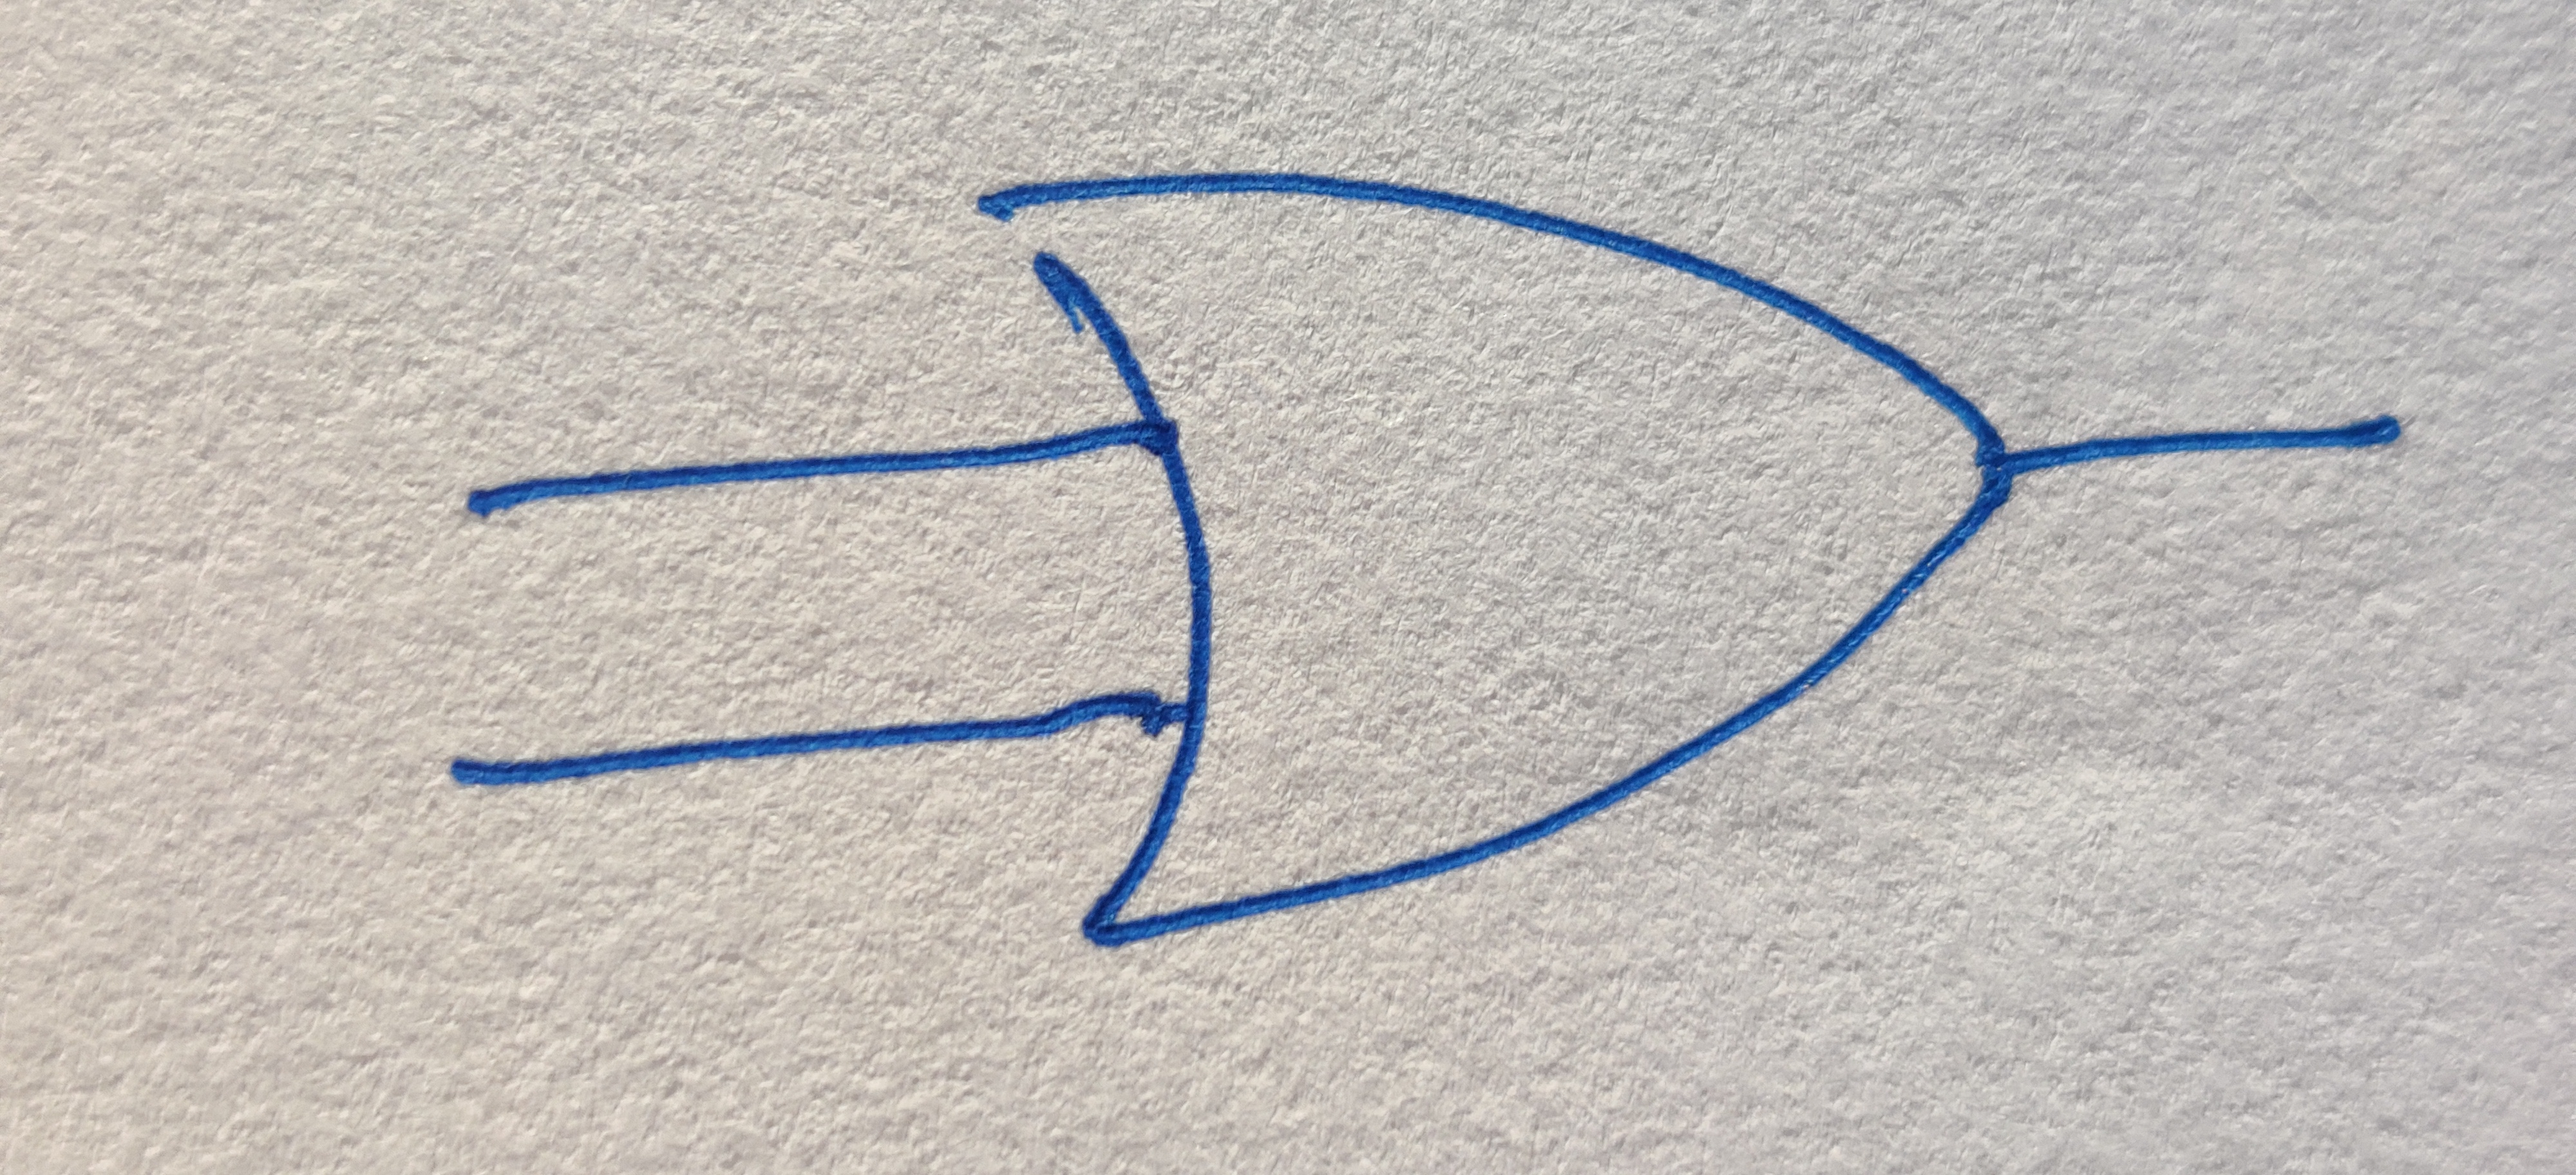or: (987, 168, 2014, 947)
